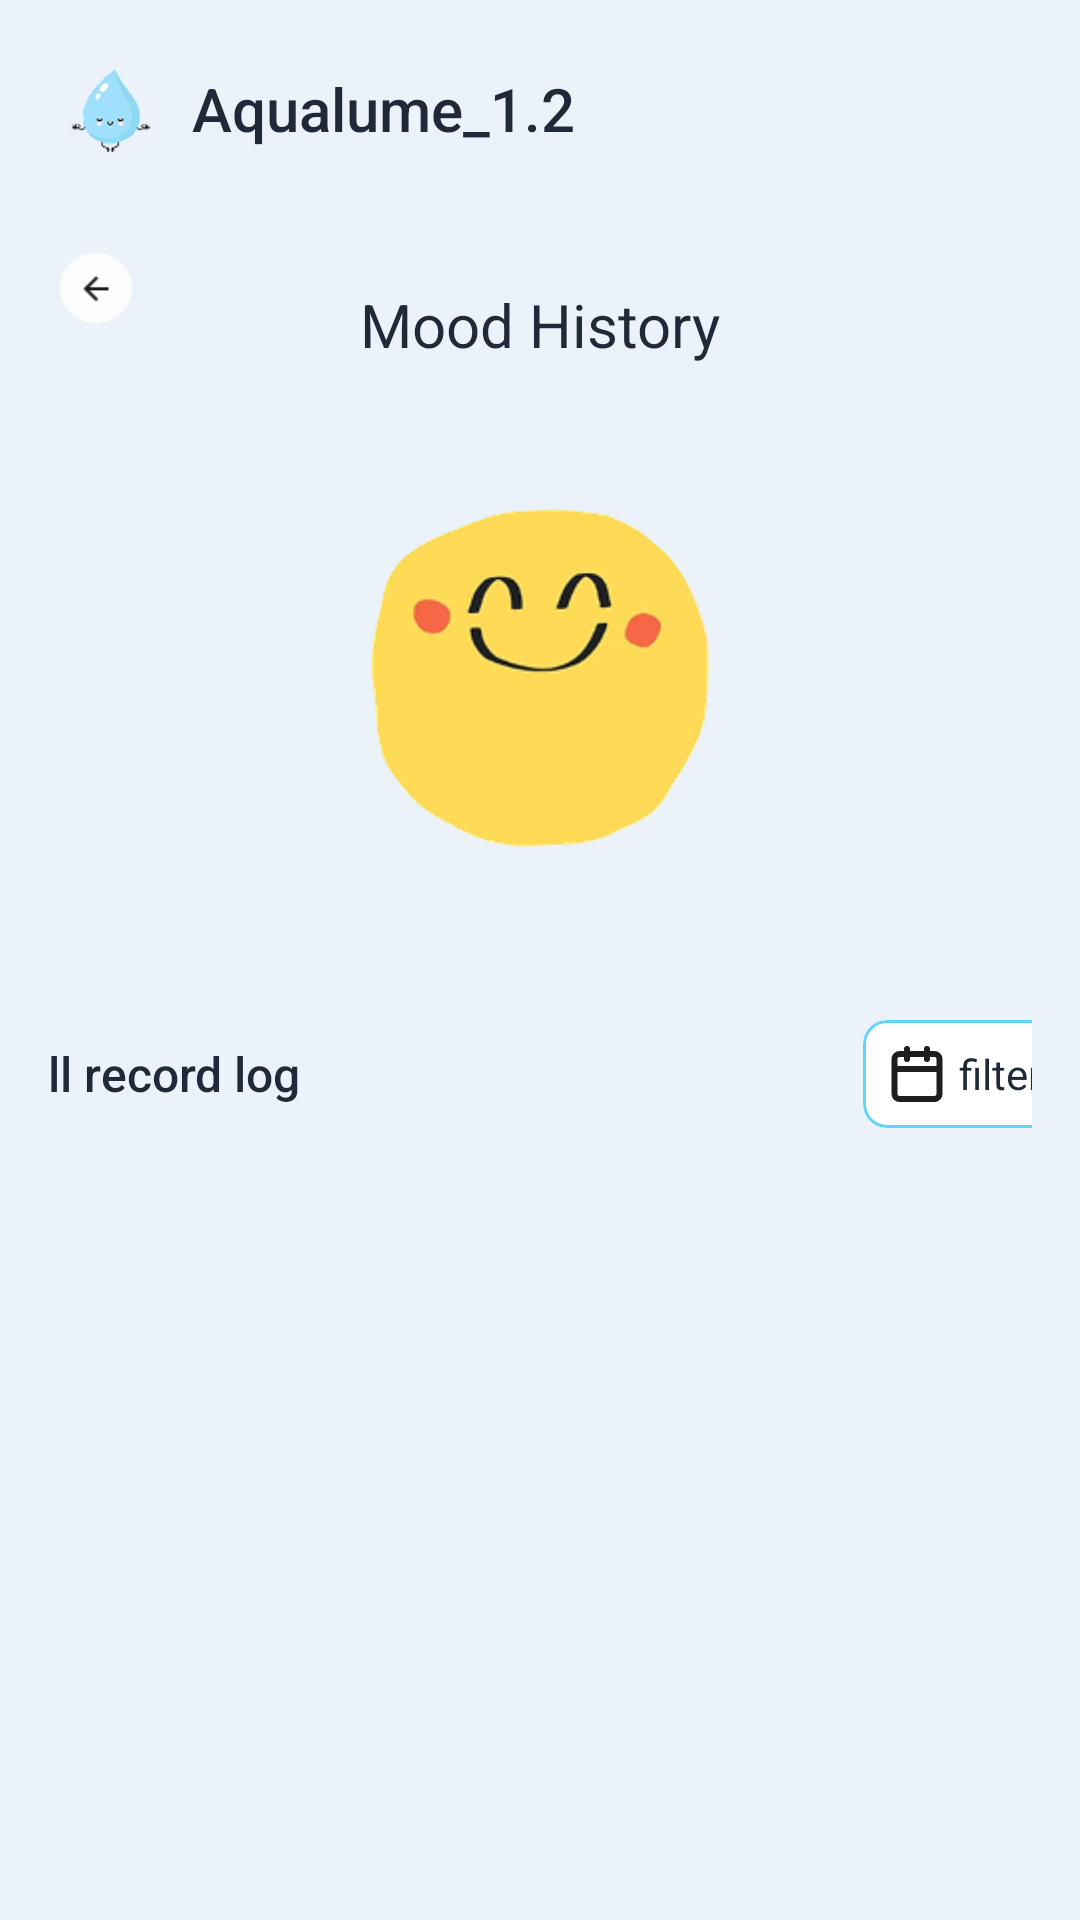

Icon bounding boxes for this 1080x1920 phone screenshot, format (x1, y1, x2, y2):
Back2: (60, 253, 132, 323)
